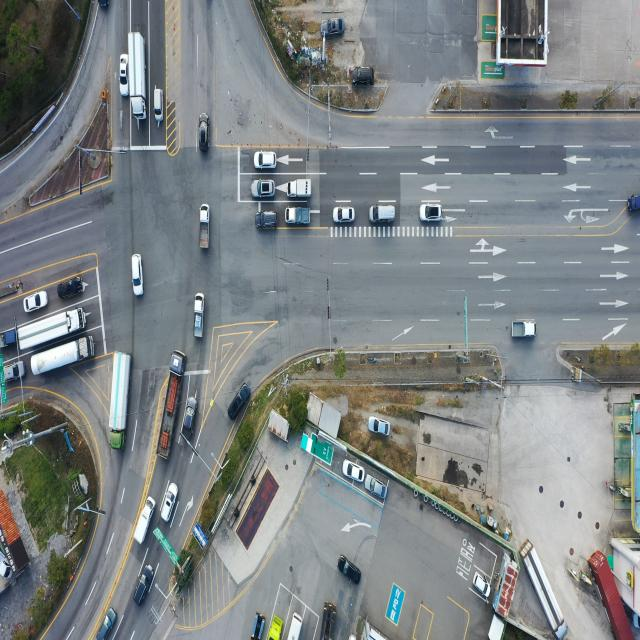car: (227, 384, 250, 425), (133, 564, 154, 608), (162, 481, 179, 523), (181, 397, 197, 441), (58, 276, 86, 300), (338, 558, 361, 587), (97, 608, 117, 640), (132, 254, 145, 298), (366, 476, 388, 502), (2, 359, 26, 382), (26, 292, 50, 314), (343, 460, 365, 483), (367, 416, 390, 438), (351, 66, 375, 86), (369, 205, 394, 224), (321, 18, 345, 37), (420, 204, 442, 223), (200, 115, 211, 153), (254, 150, 277, 168), (255, 211, 278, 229), (252, 180, 274, 198), (335, 206, 356, 224), (330, 203, 352, 220), (119, 56, 127, 96), (154, 88, 163, 122), (628, 195, 640, 214), (98, 0, 110, 11)
medium_truck: (524, 539, 570, 637), (29, 332, 96, 380), (156, 348, 184, 458), (15, 310, 85, 353), (111, 351, 133, 450), (130, 29, 150, 121), (320, 603, 336, 640)
small_bus: (285, 609, 305, 640)
small_truck: (135, 494, 157, 544), (198, 204, 211, 250), (286, 205, 312, 226), (511, 319, 536, 339), (193, 293, 204, 338), (287, 179, 313, 198), (250, 609, 265, 640), (0, 329, 18, 352), (270, 614, 284, 640)
